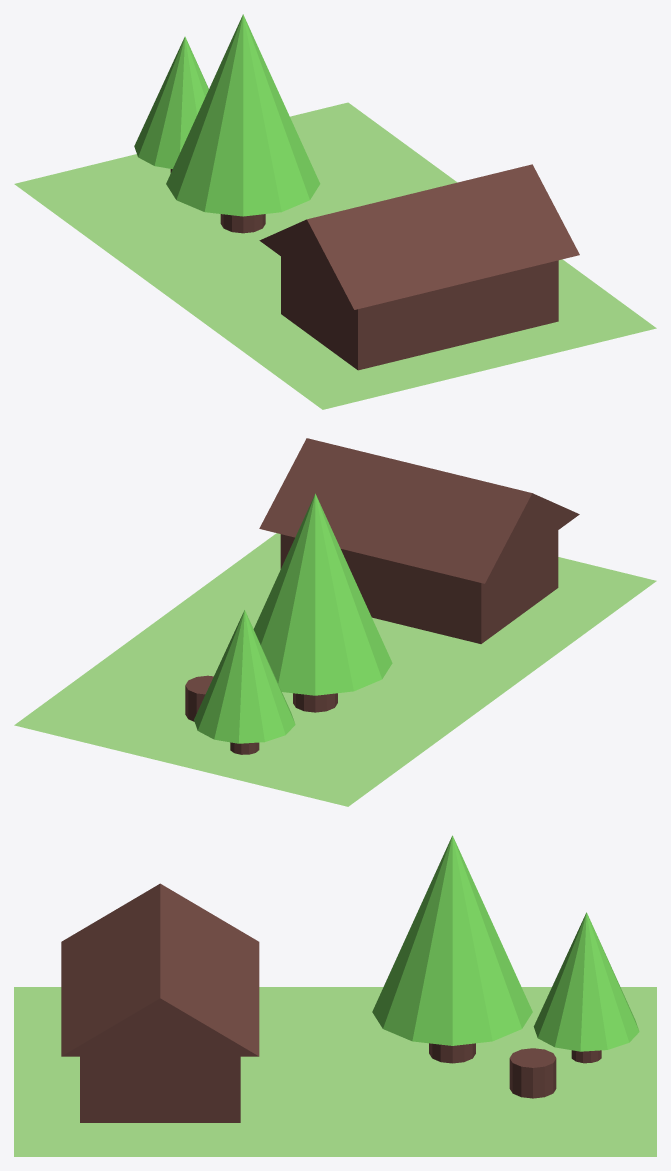
File: treesAndHouse.glb
The picture shows the model from 3 angles, top to bottom: view 1: azimuth 30°, elevation 25°; view 2: azimuth 150°, elevation 25°; view 3: azimuth 270°, elevation 25°; orthographic projection. The views are drawn at different scales.
Visible parts, largest first — view 1: ground, house, tree 1, tree 2; view 2: ground, house, tree 1, tree 2, tree stump; view 3: ground, house, tree 1, tree 2, tree stump.
Boxes of the visible parts, x1,y1,x2,y2 form: ground: (14,102,656,409); house: (259,164,579,370); tree 1: (166,14,320,233); tree 2: (134,36,208,172); ground: (14,533,656,806); house: (259,438,579,643); tree 1: (253,493,392,712); tree 2: (194,610,295,754); tree stump: (185,675,213,721); ground: (14,987,656,1156); house: (61,883,259,1122); tree 1: (372,835,532,1063); tree 2: (533,912,639,1063); tree stump: (509,1048,556,1098).
Size of the model in its own units: 5 by 3 by 8.
